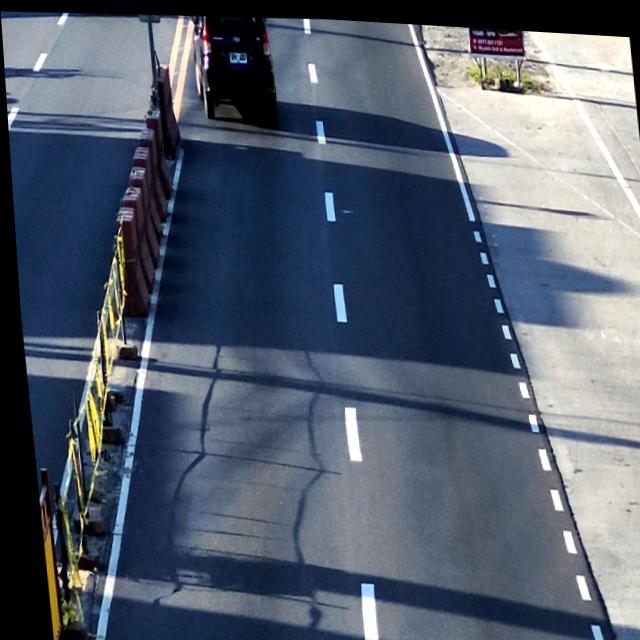Car: (185, 11, 281, 118)
License-Plate: (226, 46, 248, 64)
